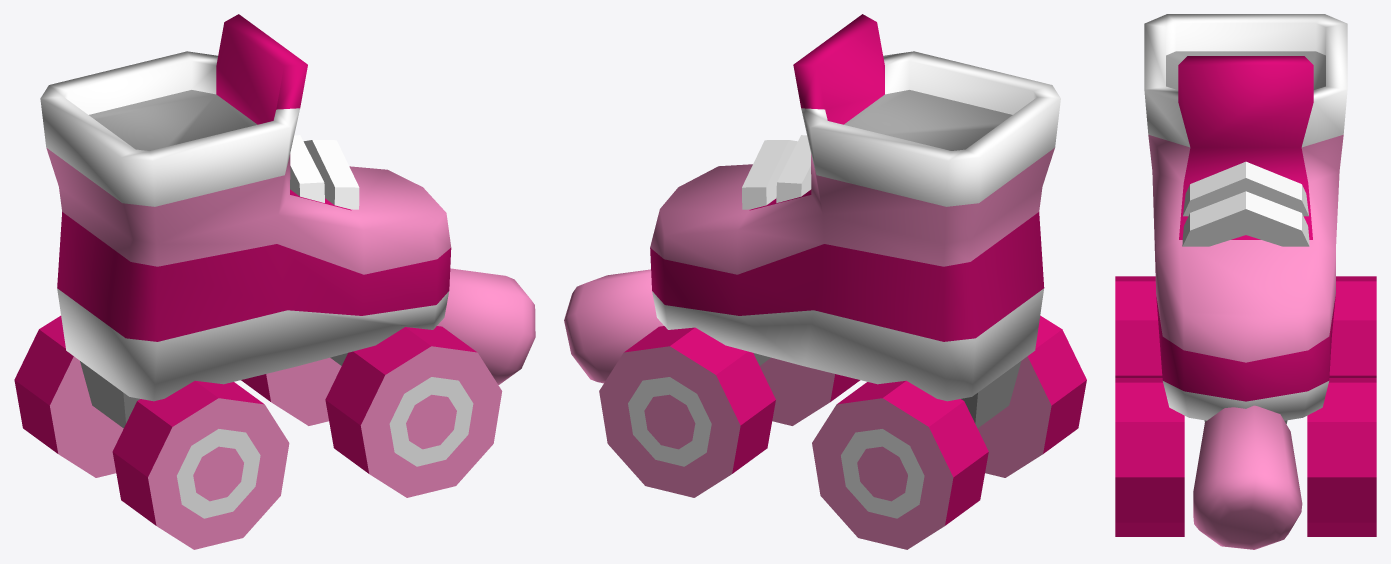
Rendered from paten.fbx.
3 renders of one model, left to right at view 1: azimuth 30°, elevation 25°; view 2: azimuth 150°, elevation 25°; view 3: azimuth 270°, elevation 25°, orthographic. The views are drawn at different scales.
Visible parts, largest first — view 1: paten; view 2: paten; view 3: paten.
Part boxes in pixels (<box>): paten: <box>14,14,535,549</box>; paten: <box>564,14,1086,549</box>; paten: <box>1115,14,1376,549</box>.
Size of the model in its own units: 251 by 229 by 130.
